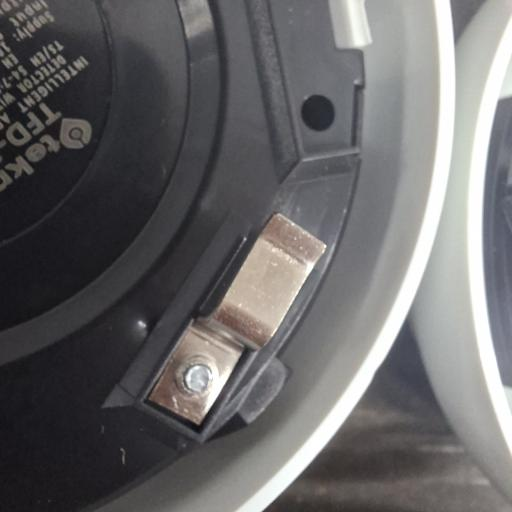yaysiz: (144, 213, 324, 430)
